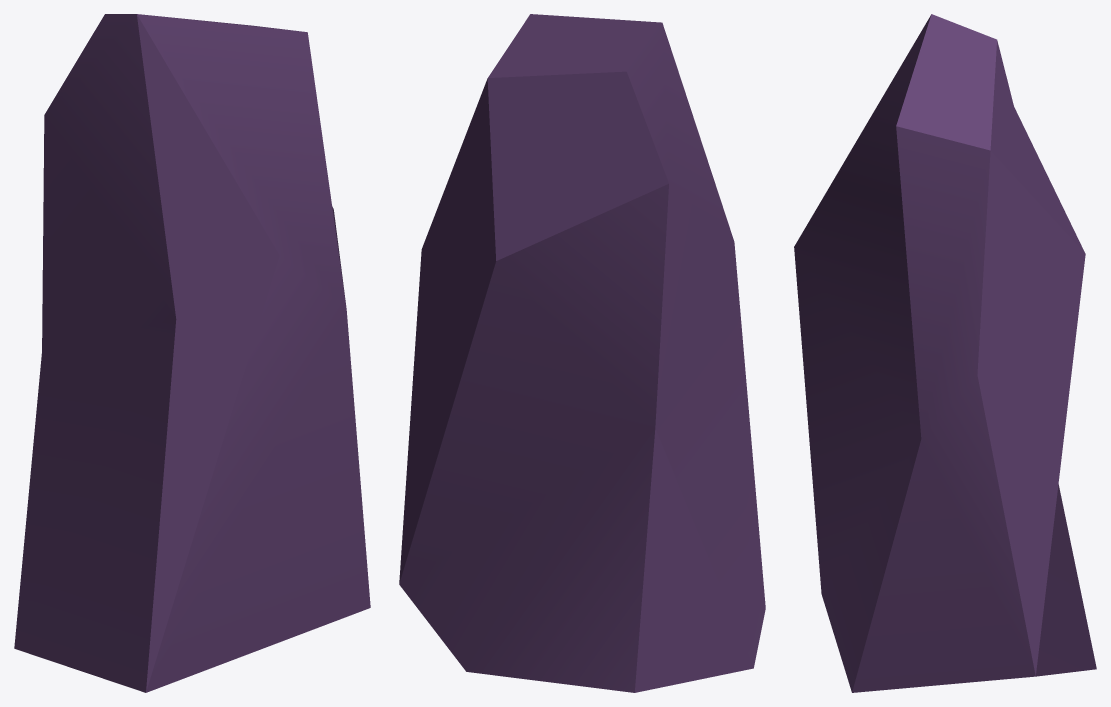
The model's file is Rock_001.fbx.
The picture shows the model from 3 angles, left to right: view 1: azimuth 30°, elevation 25°; view 2: azimuth 150°, elevation 25°; view 3: azimuth 270°, elevation 25°; orthographic projection. The views are drawn at different scales.
Visible parts, largest first — view 1: Rock_001; view 2: Rock_001; view 3: Rock_001.
Boxes of the visible parts, bbox=[...] form: Rock_001: bbox=[14, 14, 370, 692]; Rock_001: bbox=[399, 14, 765, 692]; Rock_001: bbox=[794, 14, 1096, 692].
Size of the model in its own units: 1.99 by 3.63 by 1.65.
